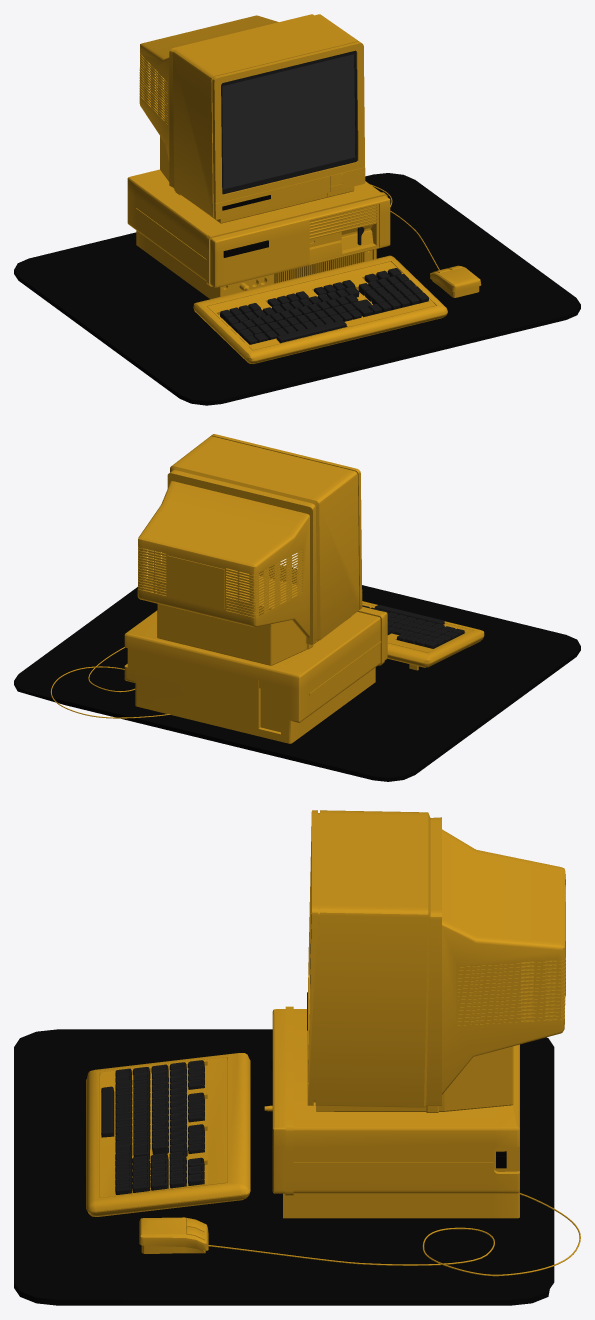
The model's file is computer.glb.
3 renders of one model, top to bottom at view 1: azimuth 30°, elevation 25°; view 2: azimuth 150°, elevation 25°; view 3: azimuth 270°, elevation 25°, orthographic. The views are drawn at different scales.
Visible parts, largest first — view 1: Cube.147_0; view 2: Cube.147_0; view 3: Cube.147_0.
Boxes of the visible parts, x1,y1,x2,y2 form: Cube.147_0: (14, 14, 580, 405); Cube.147_0: (14, 434, 580, 781); Cube.147_0: (14, 810, 580, 1305).
Bounding box in the file's own units: 3.35 × 1.8 × 2.97.
